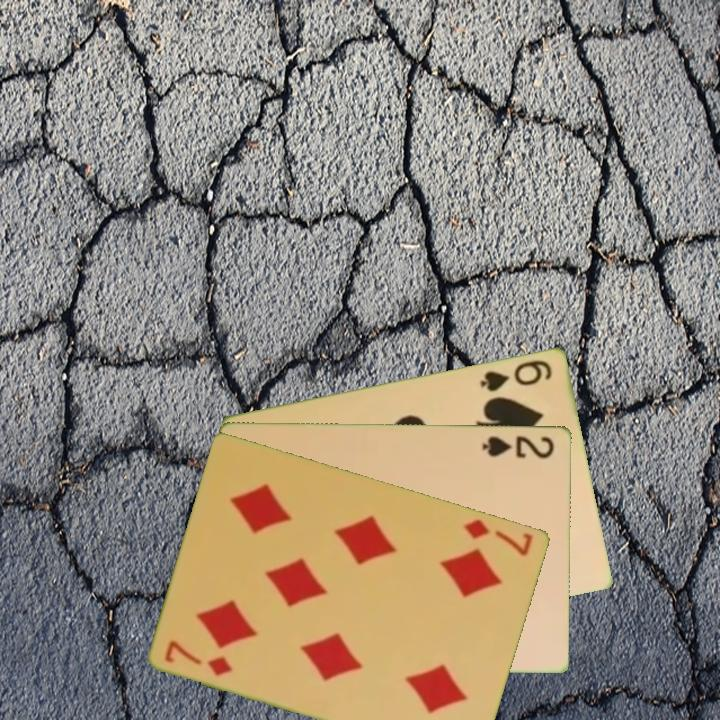2s: (479, 432, 557, 461)
6s: (477, 355, 556, 394)
7d: (461, 515, 536, 559), (161, 636, 237, 679)
